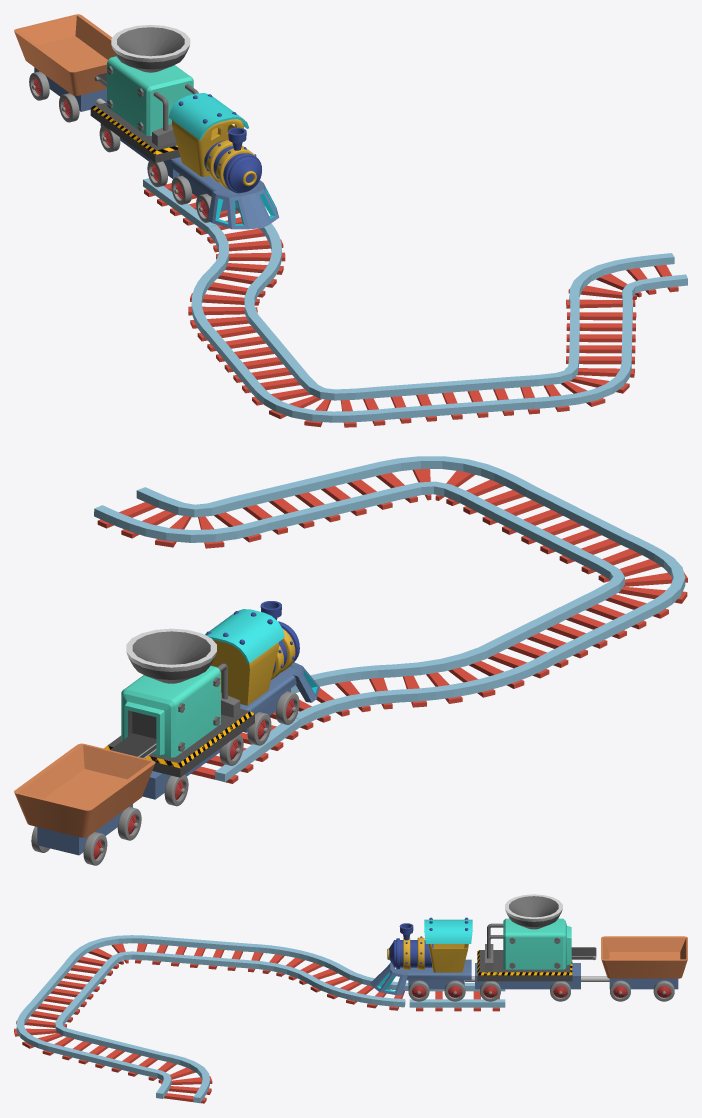
The model's file is tren.fbx.
3 renders of one model, top to bottom at view 1: azimuth 30°, elevation 25°; view 2: azimuth 150°, elevation 25°; view 3: azimuth 270°, elevation 25°, orthographic. The views are drawn at different scales.
Visible parts, largest first — view 1: makina, tren, kasa, ray.005, ray.003, ray.004, ray.007, ray.006, ray.001, ray.008, ray.002, ray (+1 smaller); view 2: makina, kasa, tren, ray.007, ray.001, ray.008, ray.004, ray.005, ray.006, ray.003, ray.002, ray (+6 smaller); view 3: makina, tren, kasa, ray.008, ray.006, ray.001, ray.007, ray.003, ray.004, ray.005, ray.002, ray (+8 smaller).
Boxes of the visible parts, box(x1,y1,x2,y2) form: makina: box(90, 24, 198, 162); tren: box(168, 93, 279, 229); kasa: box(14, 14, 116, 95); ray.005: box(378, 377, 520, 423); ray.003: box(251, 375, 392, 427); ray.004: box(510, 355, 634, 414); ray.007: box(566, 253, 687, 308); ray.006: box(207, 325, 308, 393); ray.001: box(188, 269, 266, 341); ray.008: box(566, 301, 636, 364); ray.002: box(207, 223, 285, 287); ray: box(143, 178, 242, 235); makina: box(104, 628, 254, 777); kasa: box(14, 743, 155, 837); tren: box(205, 601, 319, 732); ray.007: box(94, 487, 268, 548); ray.001: box(394, 638, 552, 707); ray.008: box(232, 465, 398, 534); ray.004: box(364, 456, 534, 514); ray.005: box(480, 486, 631, 563); ray.006: box(498, 591, 649, 667); ray.003: box(579, 534, 687, 618); ray.002: box(269, 664, 400, 729); ray: box(191, 718, 299, 783); makina: box(477, 894, 596, 981); tren: box(370, 917, 472, 995); kasa: box(601, 936, 687, 978); ray.008: box(58, 1032, 162, 1076); ray.006: box(147, 936, 248, 970); ray.001: box(240, 943, 344, 984); ray.007: box(141, 1052, 212, 1103); ray.003: box(63, 935, 154, 975); ray.004: box(14, 1002, 82, 1055); ray.005: box(31, 964, 106, 1014); ray.002: box(308, 967, 408, 1010); ray: box(409, 983, 505, 1011).
Size of the model in its own units: 2221 by 592 by 3858.
